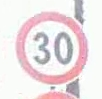limite 30: (13, 12, 89, 86)
